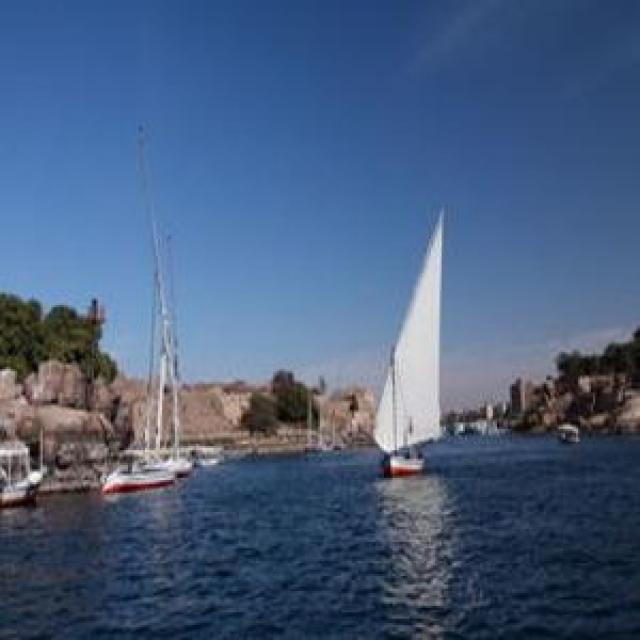sailboat: (328, 207, 469, 482)
